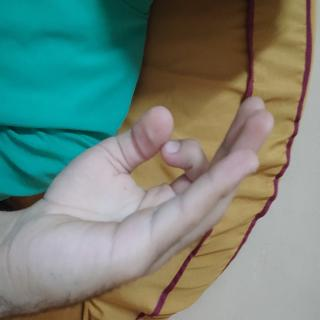Space: (58, 47, 239, 320)
